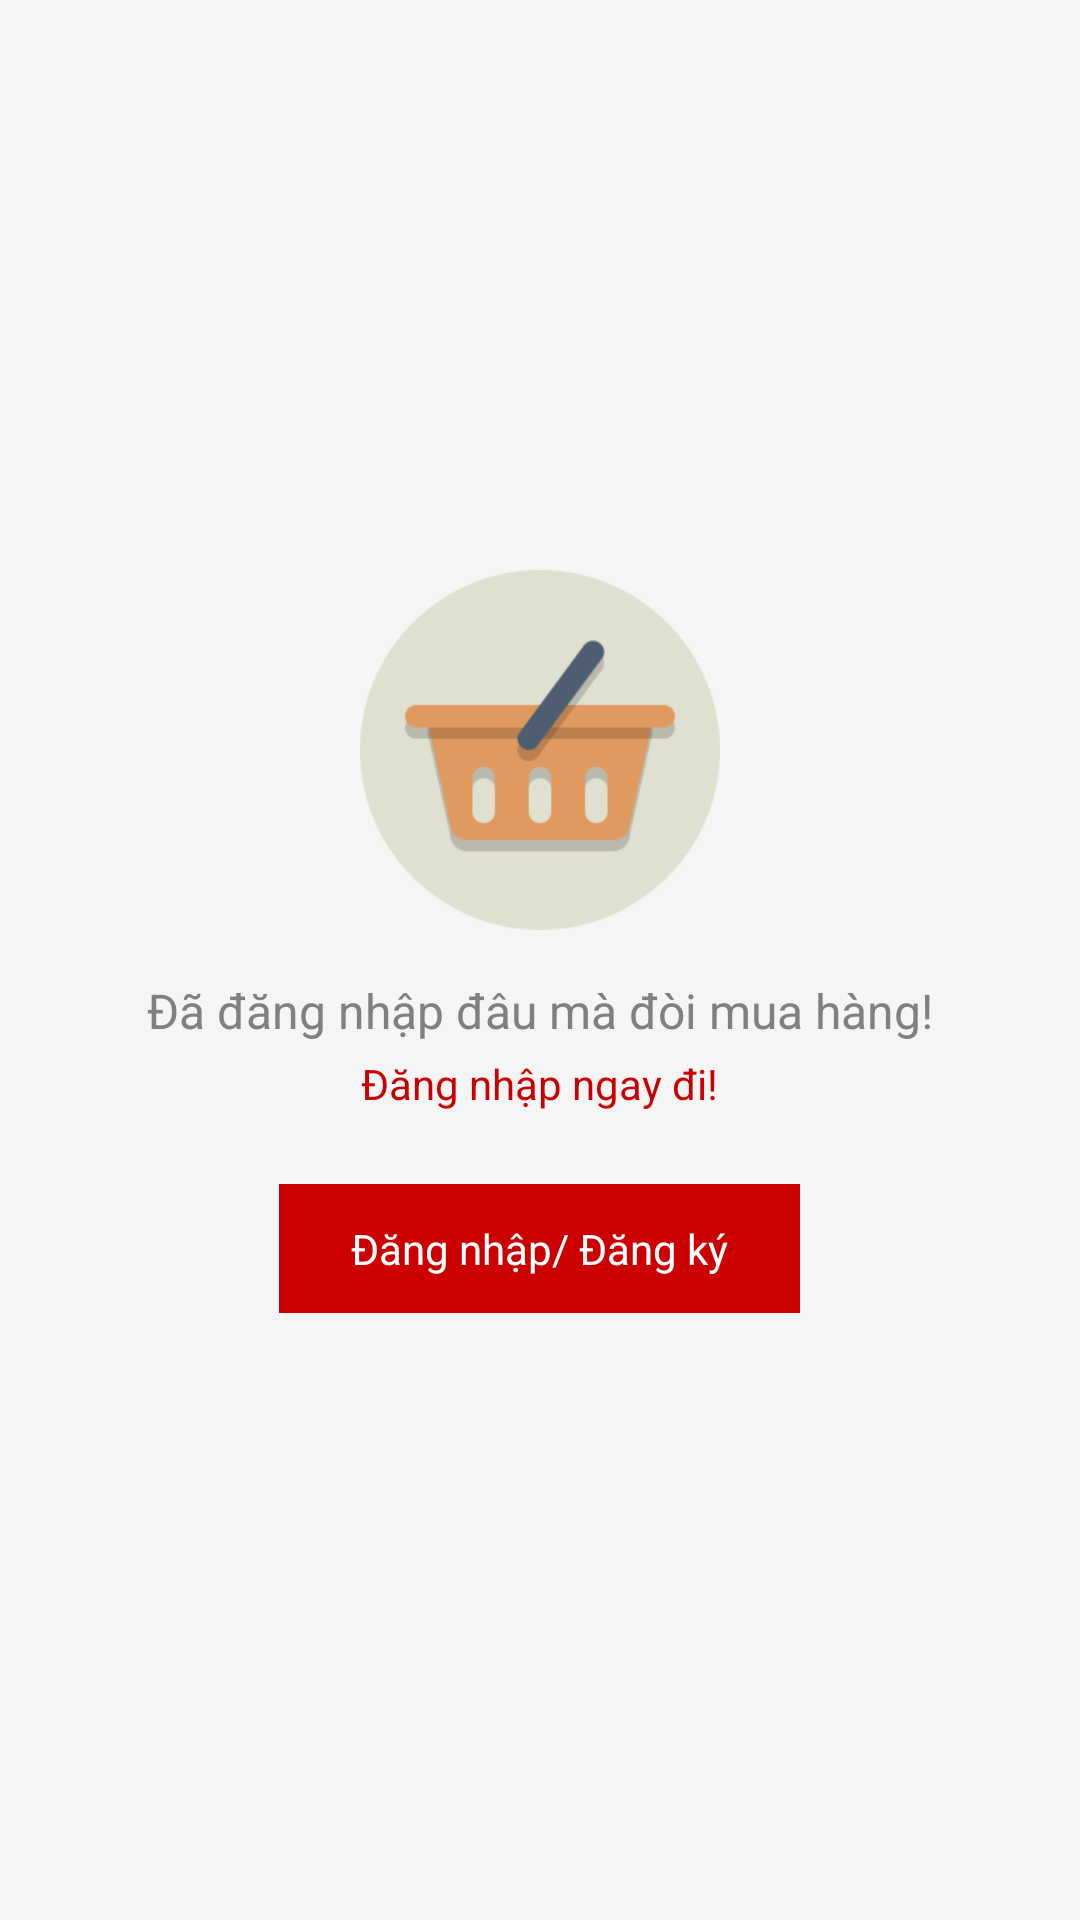

Screen size 1080px×1920px. Icon name, then its box in pixels as (x1, y1, x2, y2):
Empty cart: (360, 570, 720, 930)
